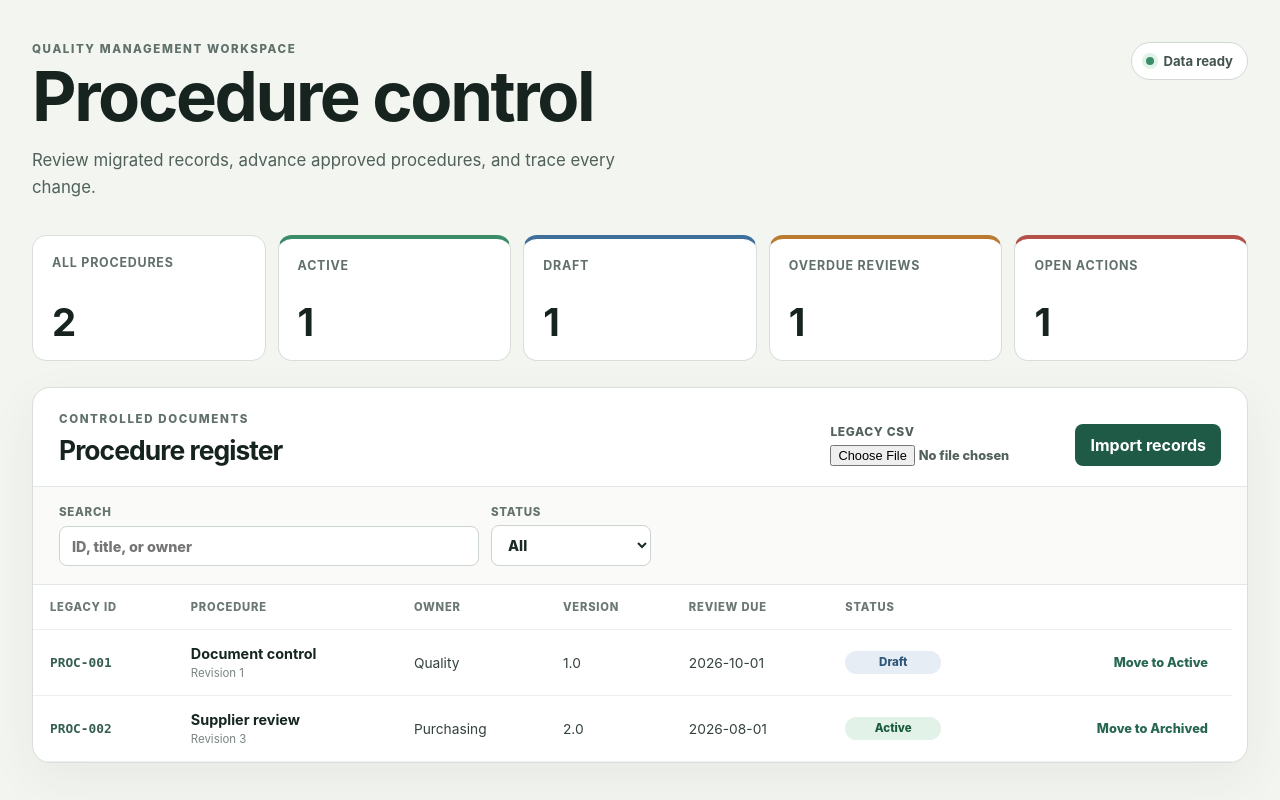
Test: procedure register › filters procedures by search term and workflow status
Check: the text "Document control" is shown, box [191,645,317,662]
Type "Purchasing" into the search field labelled "Search" at (269, 546), box [59,526,479,566]
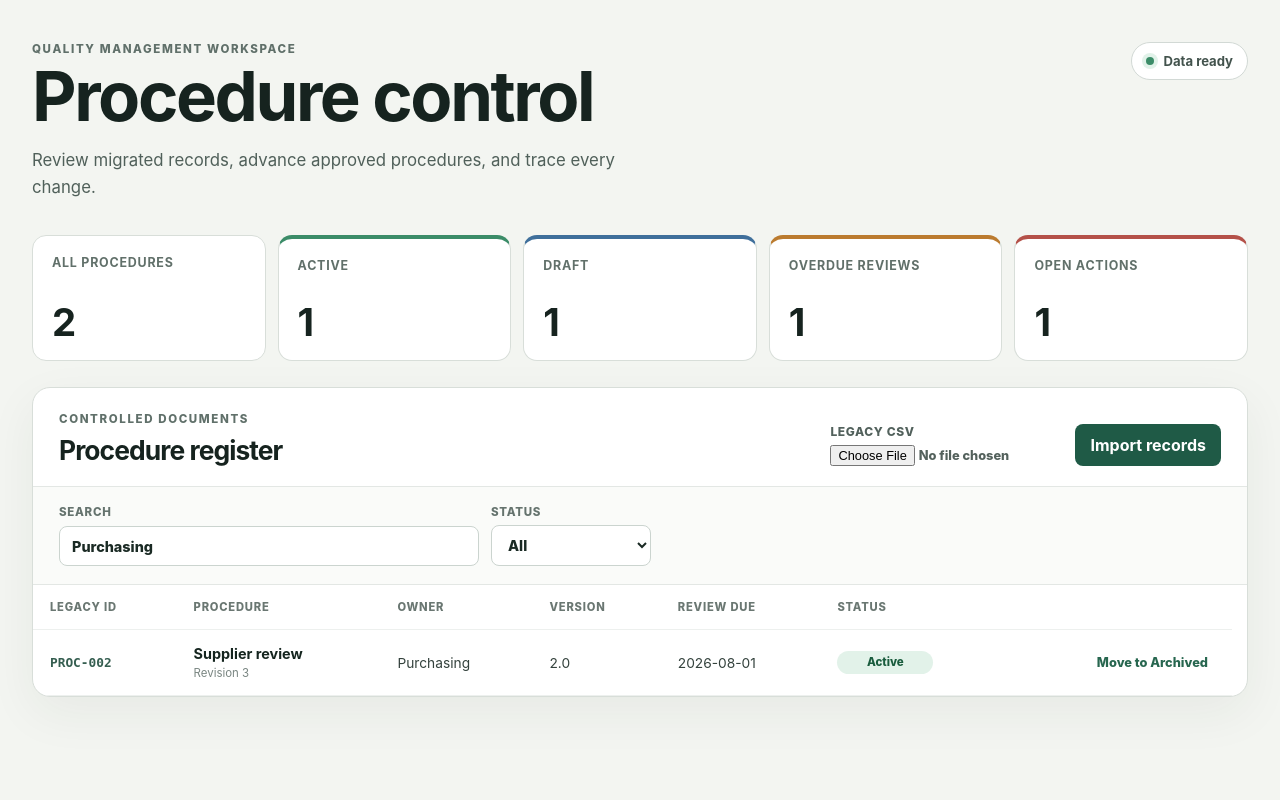
Check: the text "Supplier review" is shown, box [194,645,303,662]
Check: the text "Document control" is gone
Select "Draft" in the dropdown labelled "Status" at (571, 546), box [491,525,651,566]
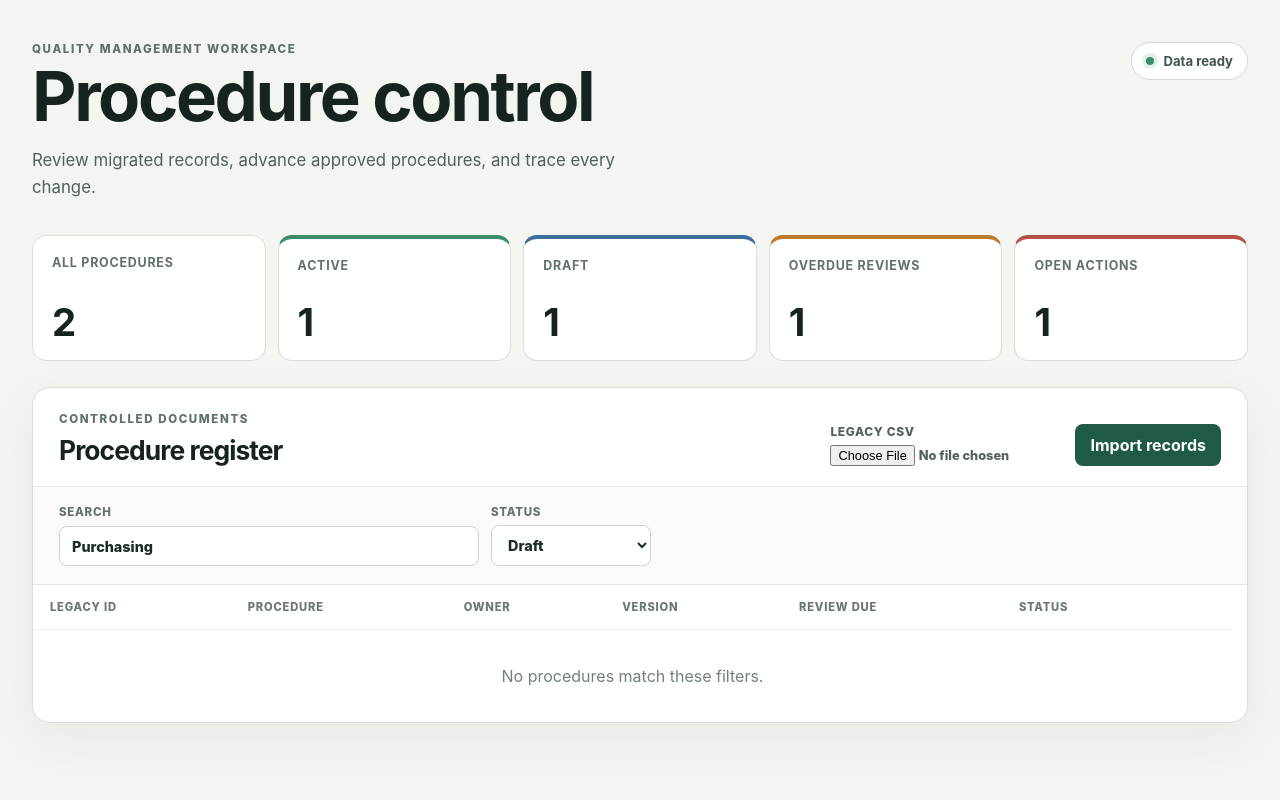
Check: the text "No procedures match these filters." is shown, box [502,666,763,686]
